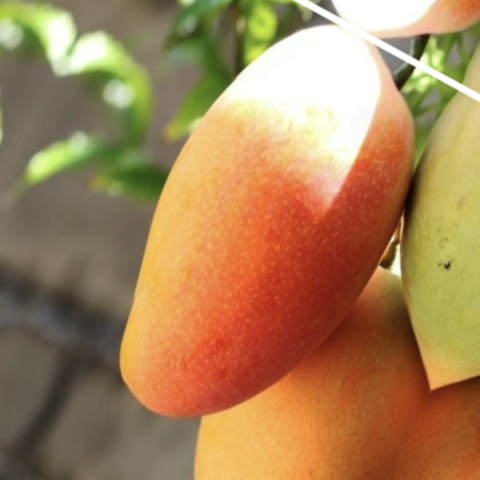mango: (27, 0, 480, 480)
